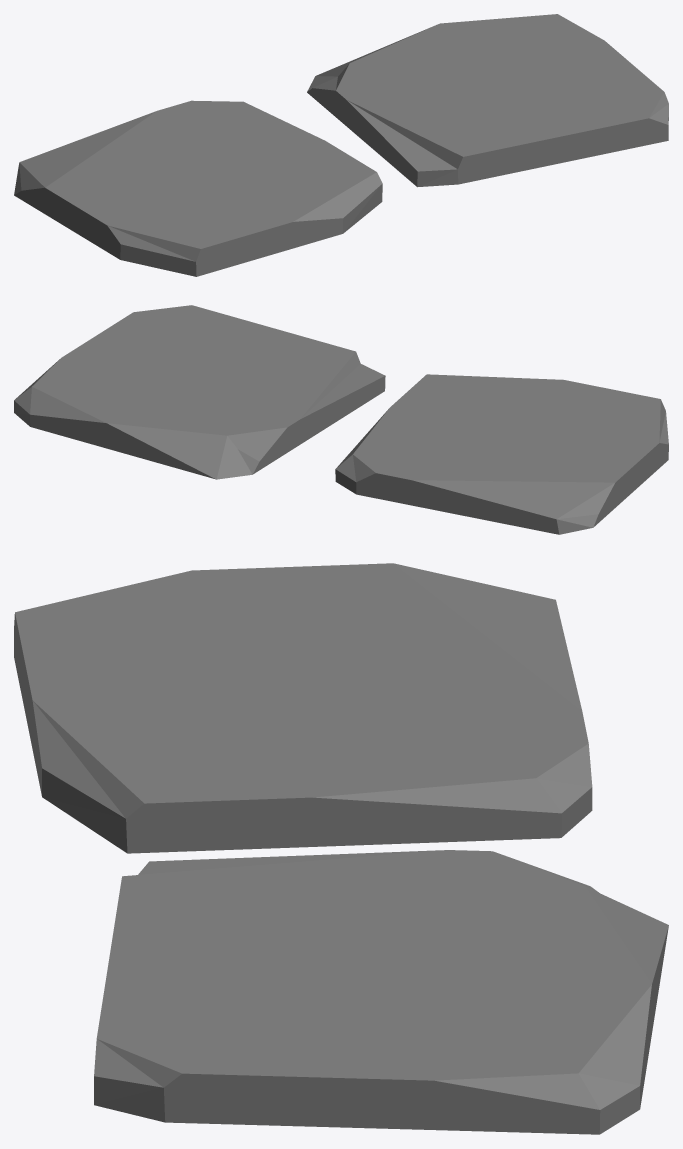
The model's file is Tile_07.FBX.
3 views of the same model, one above another, from view 1: azimuth 30°, elevation 25°; view 2: azimuth 150°, elevation 25°; view 3: azimuth 270°, elevation 25° (orthographic). The views are drawn at different scales.
Visible parts, largest first — view 1: Tile_07; view 2: Tile_07; view 3: Tile_07.
Boxes of the visible parts, box(x1,y1,x2,y2) form: Tile_07: box(14, 14, 668, 276); Tile_07: box(14, 305, 668, 534); Tile_07: box(14, 563, 668, 1134).
Bounding box in the file's own units: 3.42 × 0.15 × 1.8.
